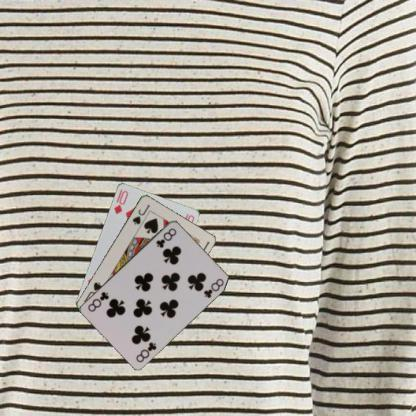10d: (111, 188, 129, 215)
8c: (133, 339, 158, 364), (153, 225, 177, 249)
Js: (130, 202, 152, 226)
